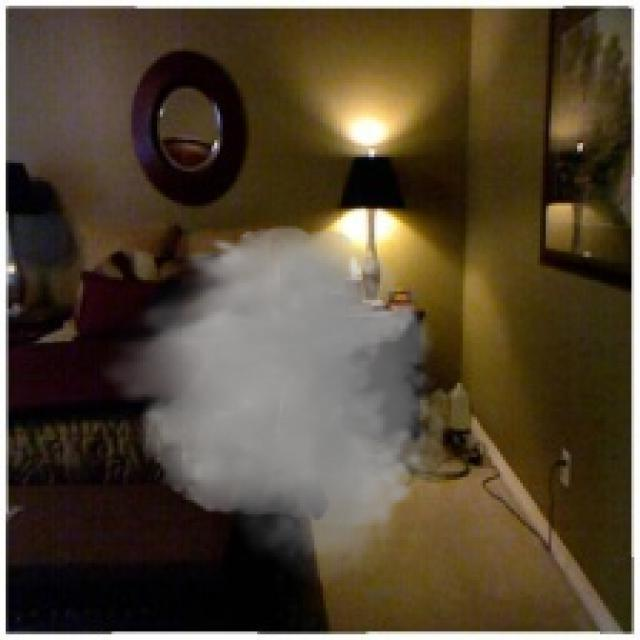Smoke: (94, 217, 463, 586)
